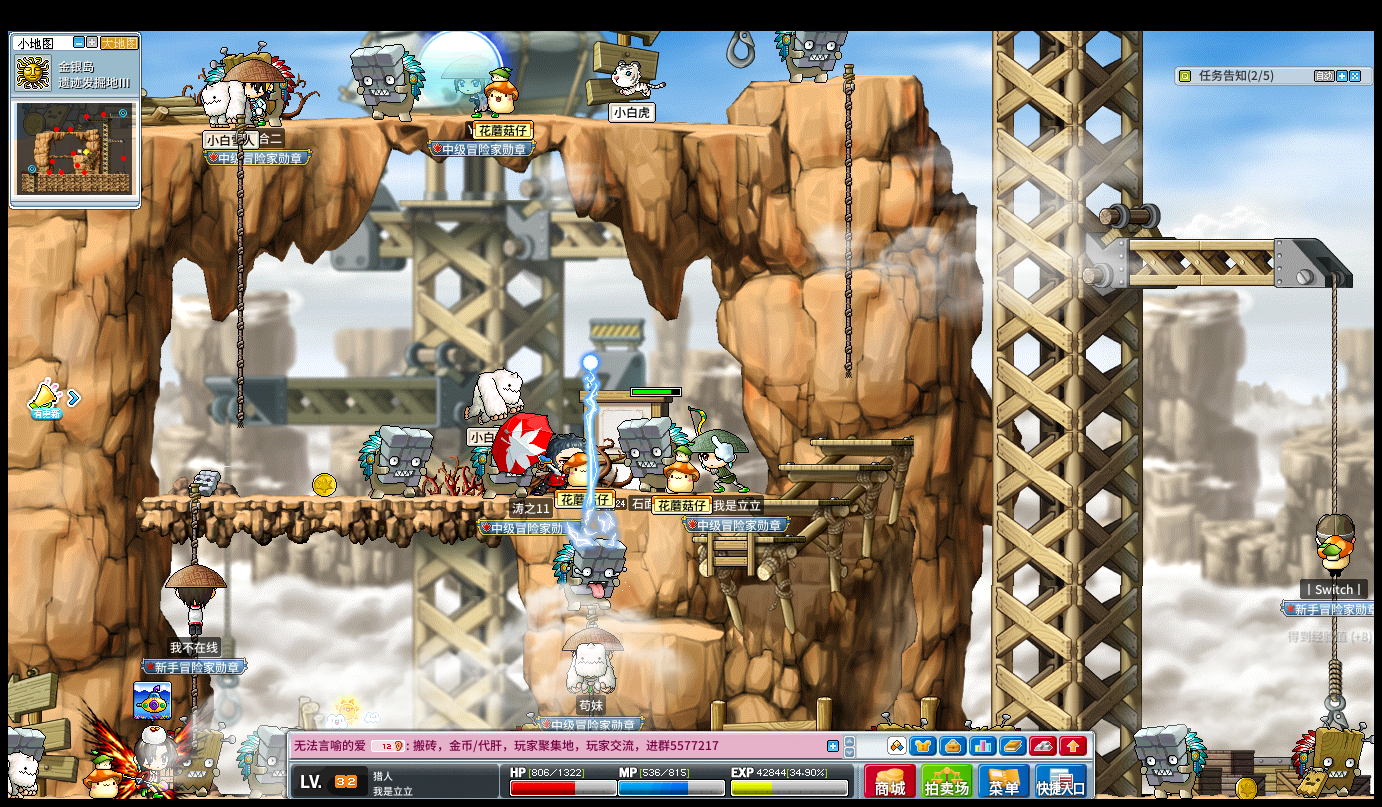floor: (130, 109, 790, 137), (135, 494, 525, 506), (1120, 235, 1319, 249), (748, 72, 921, 86), (614, 619, 725, 640), (747, 76, 916, 89), (656, 495, 840, 505), (641, 492, 793, 501), (687, 533, 805, 543), (807, 438, 913, 447), (774, 462, 889, 470), (603, 487, 718, 495), (751, 498, 850, 506)
monster: (553, 536, 627, 620), (348, 41, 426, 119), (356, 424, 433, 498), (1291, 719, 1369, 792), (1134, 723, 1206, 794), (470, 431, 537, 498), (617, 415, 684, 477), (235, 724, 289, 793), (776, 27, 842, 83), (184, 723, 230, 792), (5, 725, 47, 793), (469, 437, 500, 498)
rope: (841, 63, 854, 382), (233, 118, 245, 425), (1326, 280, 1340, 500), (841, 270, 853, 373), (186, 482, 199, 563), (1329, 615, 1338, 705)
